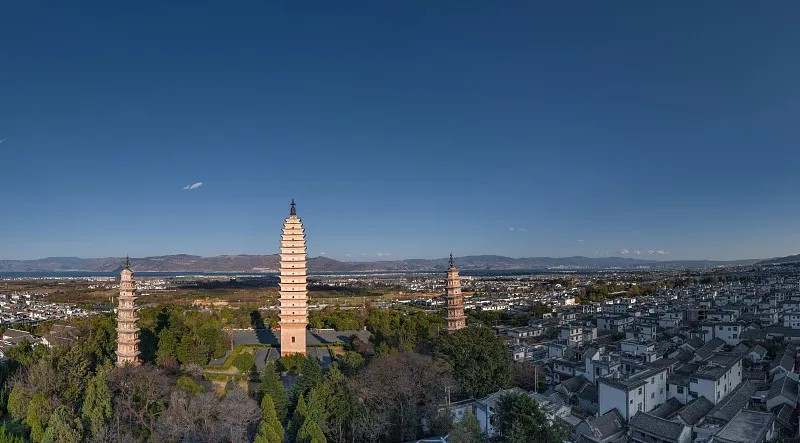ThreePagoda: (277, 197, 310, 357)
